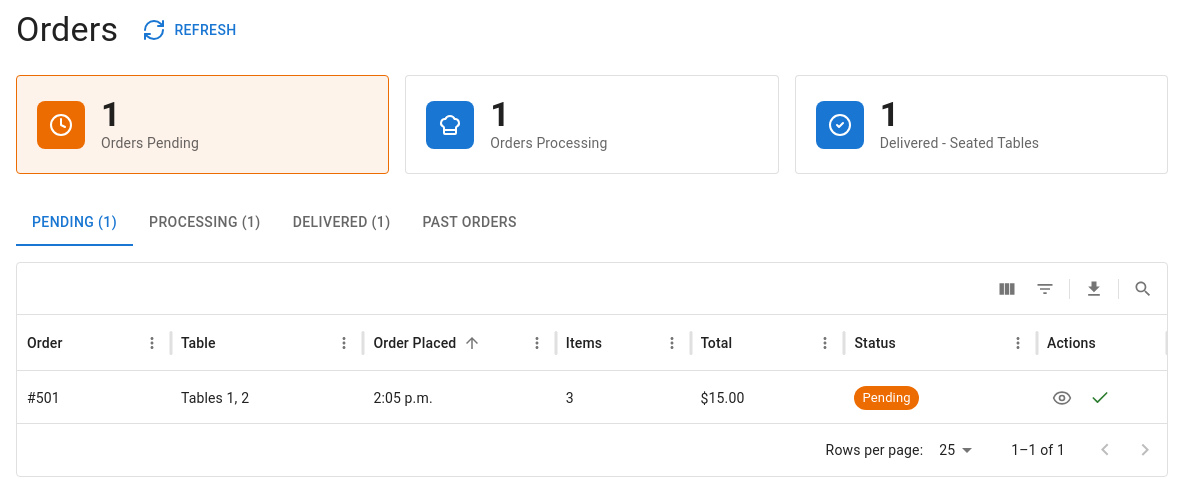
Scenario: Order dashboard › lists approved orders under Processing
This screenshot has width=1185, height=494.
Expected: the text "#501" is shown, [27,390,60,406]
Click the tab "Processing (1)".
click(205, 222)  # box [133,198,277,246]
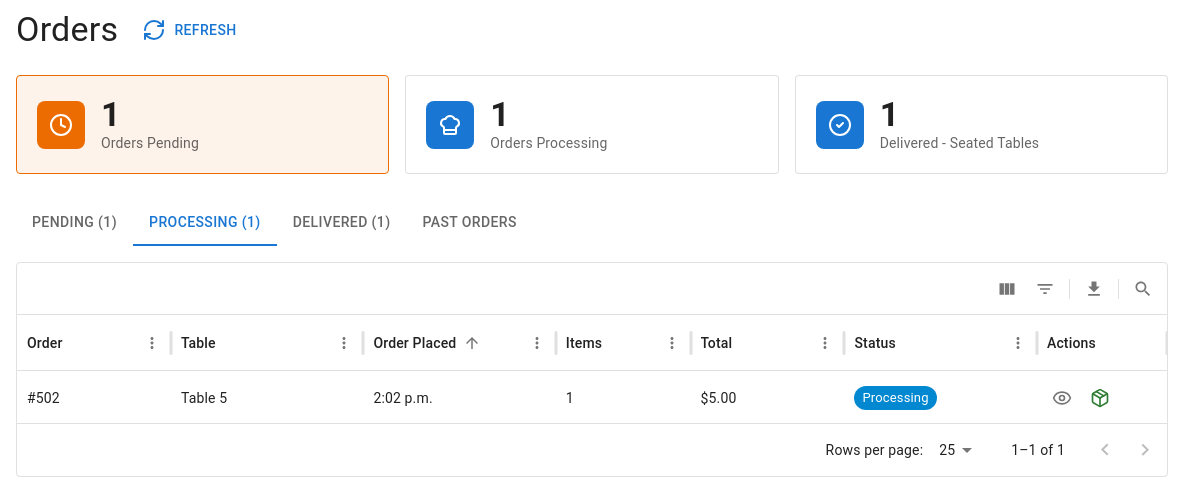
Result: the text "Processing" is shown at [862,390,929,405]
Result: the button named "Mark all delivered" is shown at [1085,383,1115,413]
